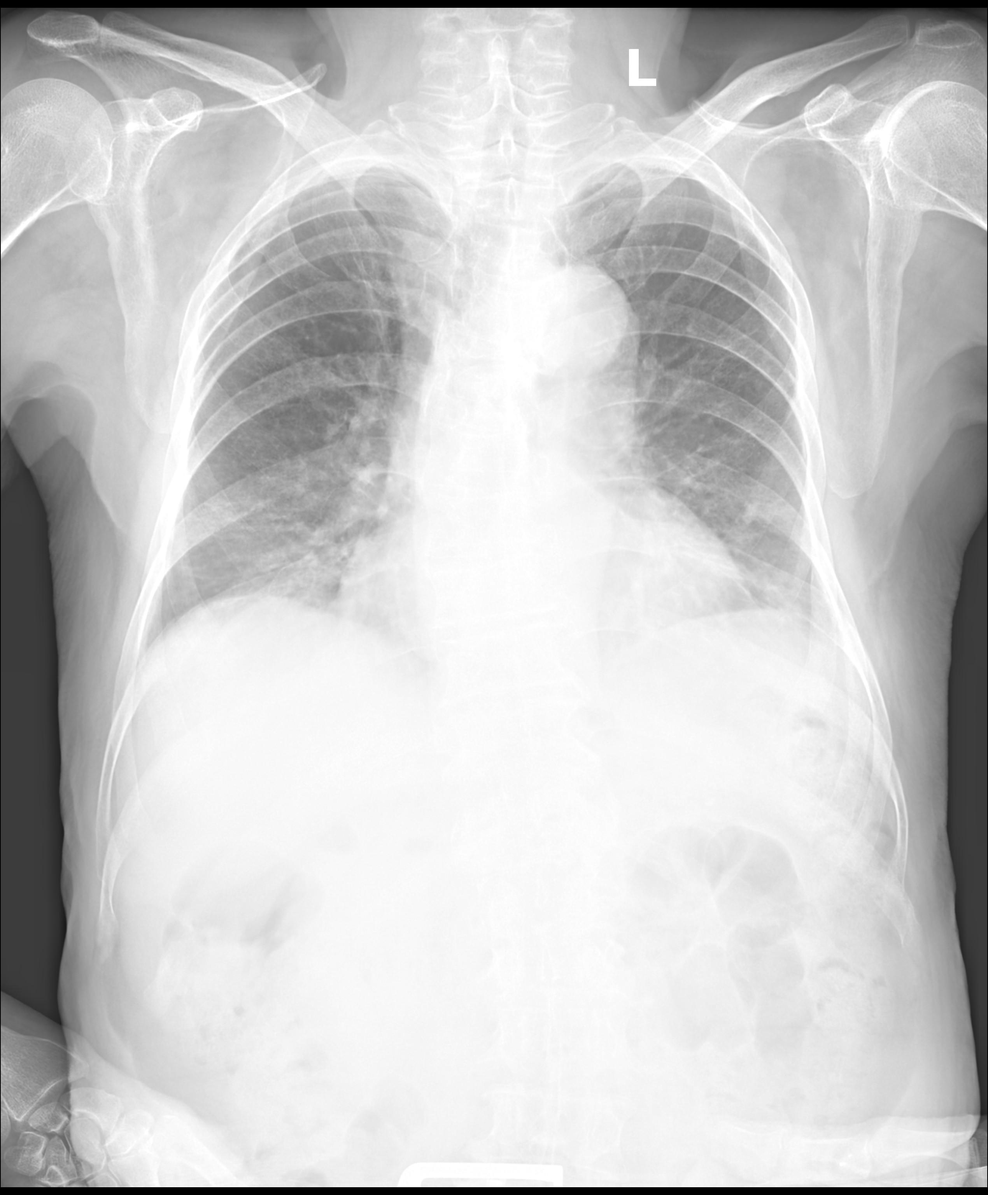Aortic enlargement: (502, 262, 640, 385)
Cardiomegaly: (338, 538, 759, 642)
Pleural thickening: (302, 155, 420, 184), (623, 155, 691, 178)
Pulmonary fibrosis: (343, 216, 396, 380), (634, 436, 736, 491), (665, 531, 750, 593), (728, 323, 763, 343)
